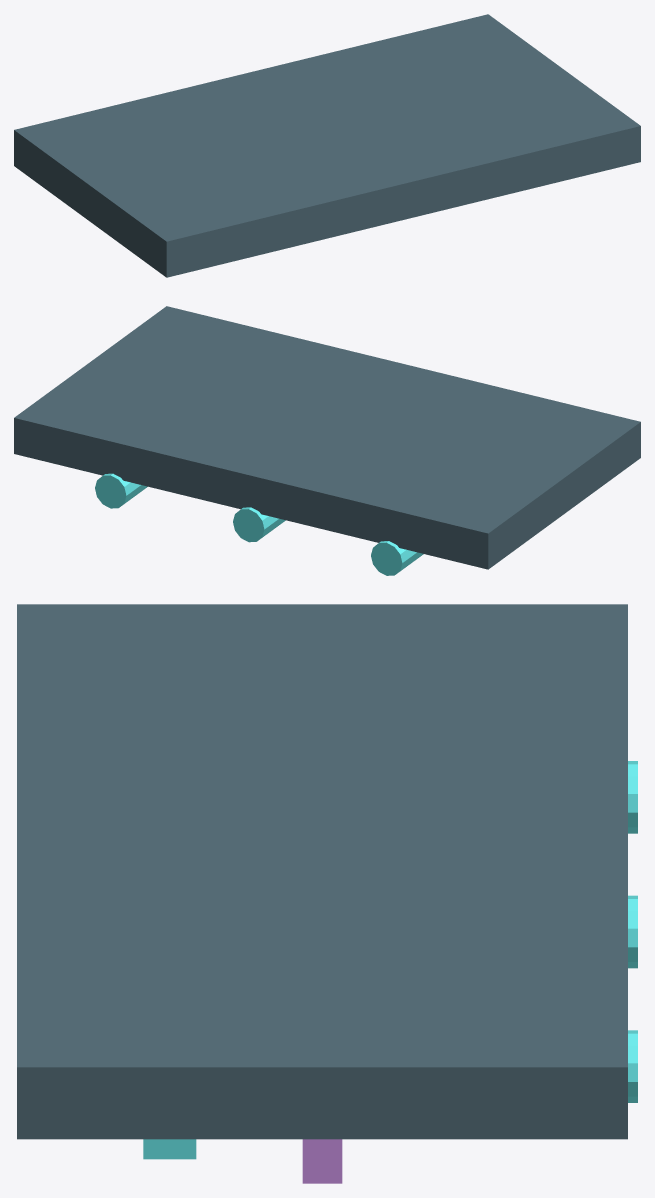
Rendered from shutoff-valve-manifold.glb.
3 views of the same model, one above another, from view 1: azimuth 30°, elevation 25°; view 2: azimuth 150°, elevation 25°; view 3: azimuth 270°, elevation 25° (orthographic). The views are drawn at different scales.
Parts seen in each view (by area): view 1: world; view 2: world; view 3: world.
Boxes of the visible parts, x1=… form: world: x1=14, y1=14, x2=640, y2=277; world: x1=14, y1=306, x2=640, y2=575; world: x1=17, y1=604, x2=637, y2=1183.
Size of the model in its own units: 1.65 by 0.28 by 0.935.
